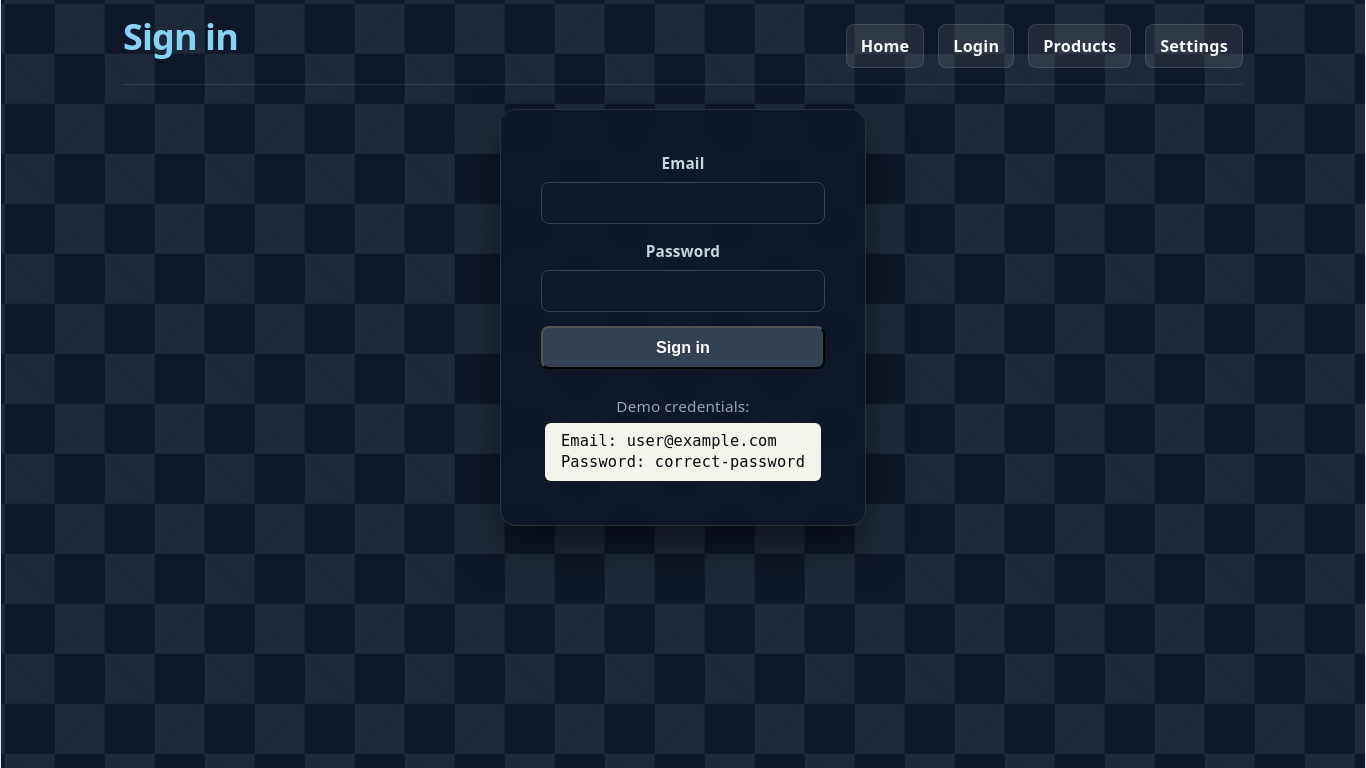
it: Visual regression: login form states › captures login form with error state
The width and height of the screenshot is (1366, 768).
Expected: the password field with test id "password" is shown, [541,270,825,312]
In the field with test id "email": (683, 203) [541,182,825,224], type "user@example.com"
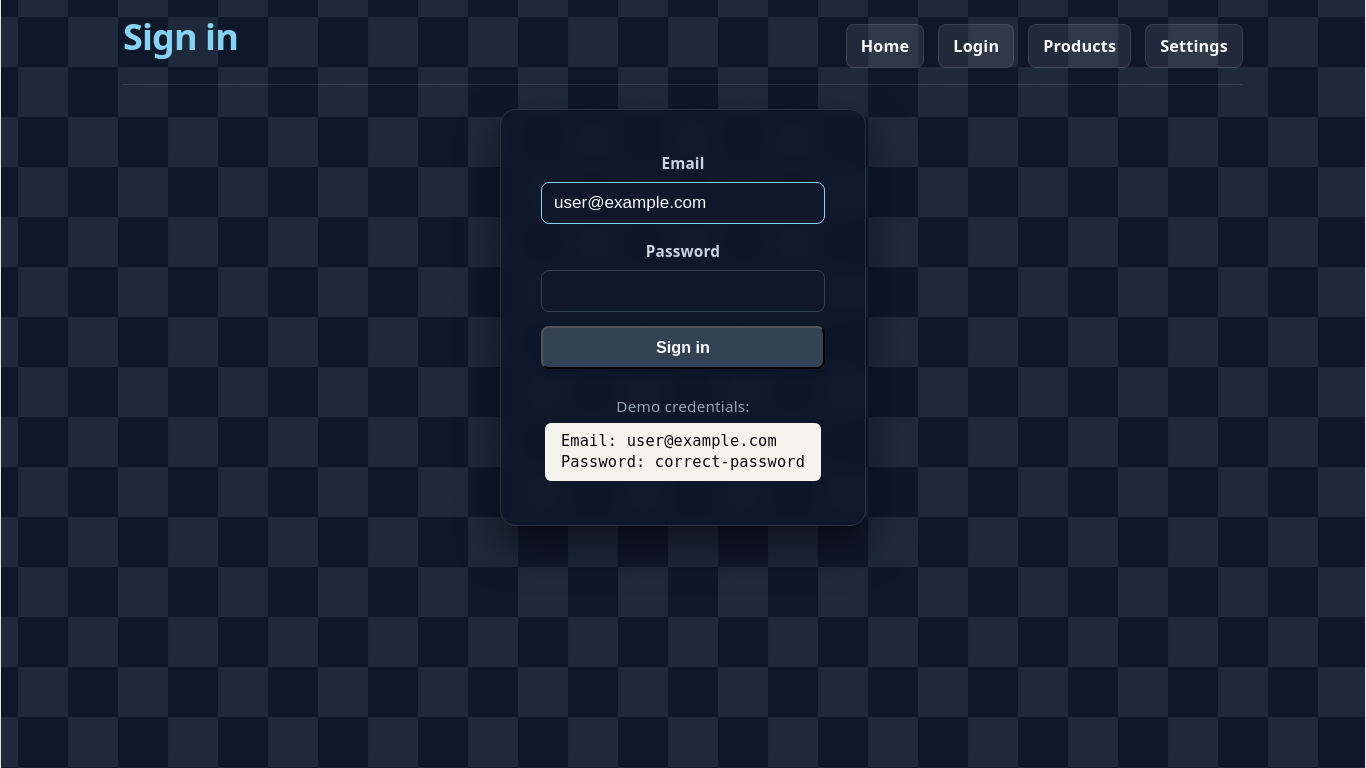
In the password field with test id "password": (683, 291) [541,270,825,312], type "wrong-password"
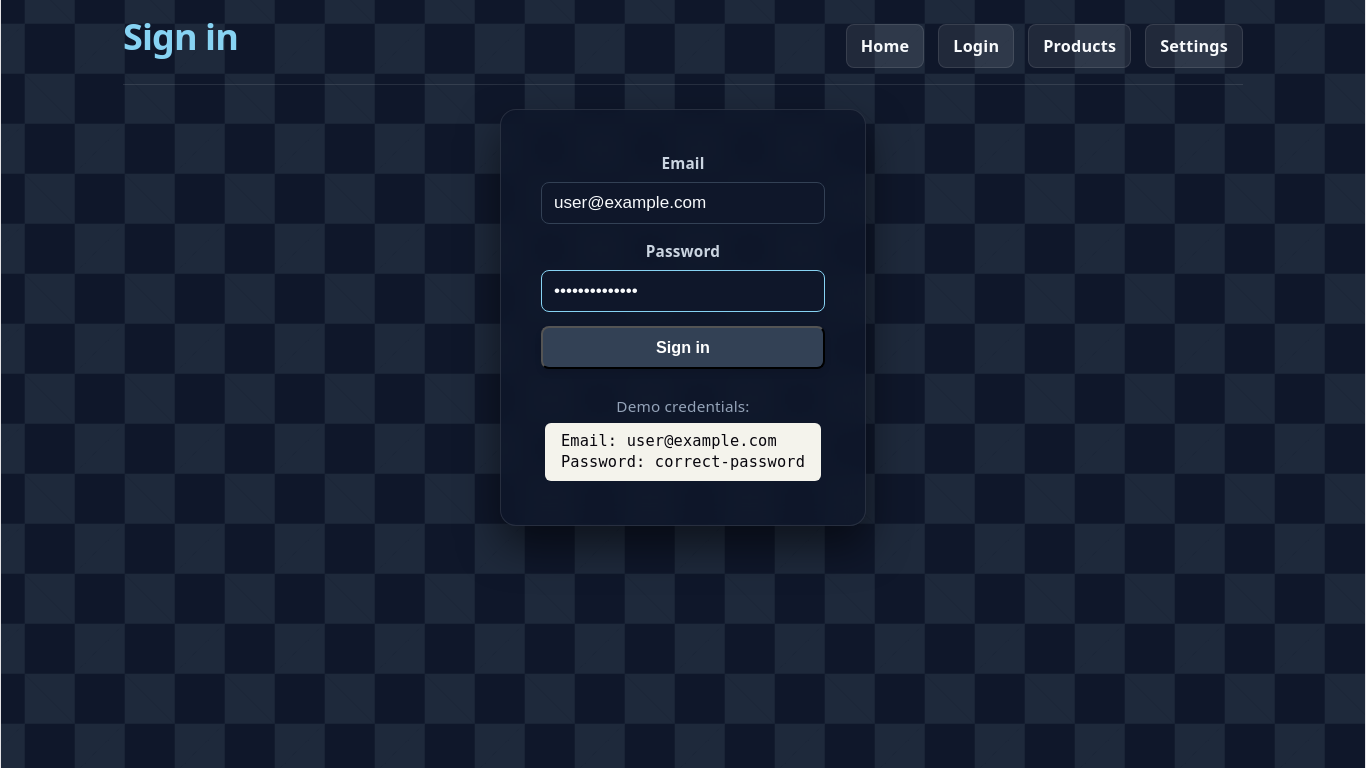
Click the button with test id "login-submit": (683, 348) [541,326,825,369]
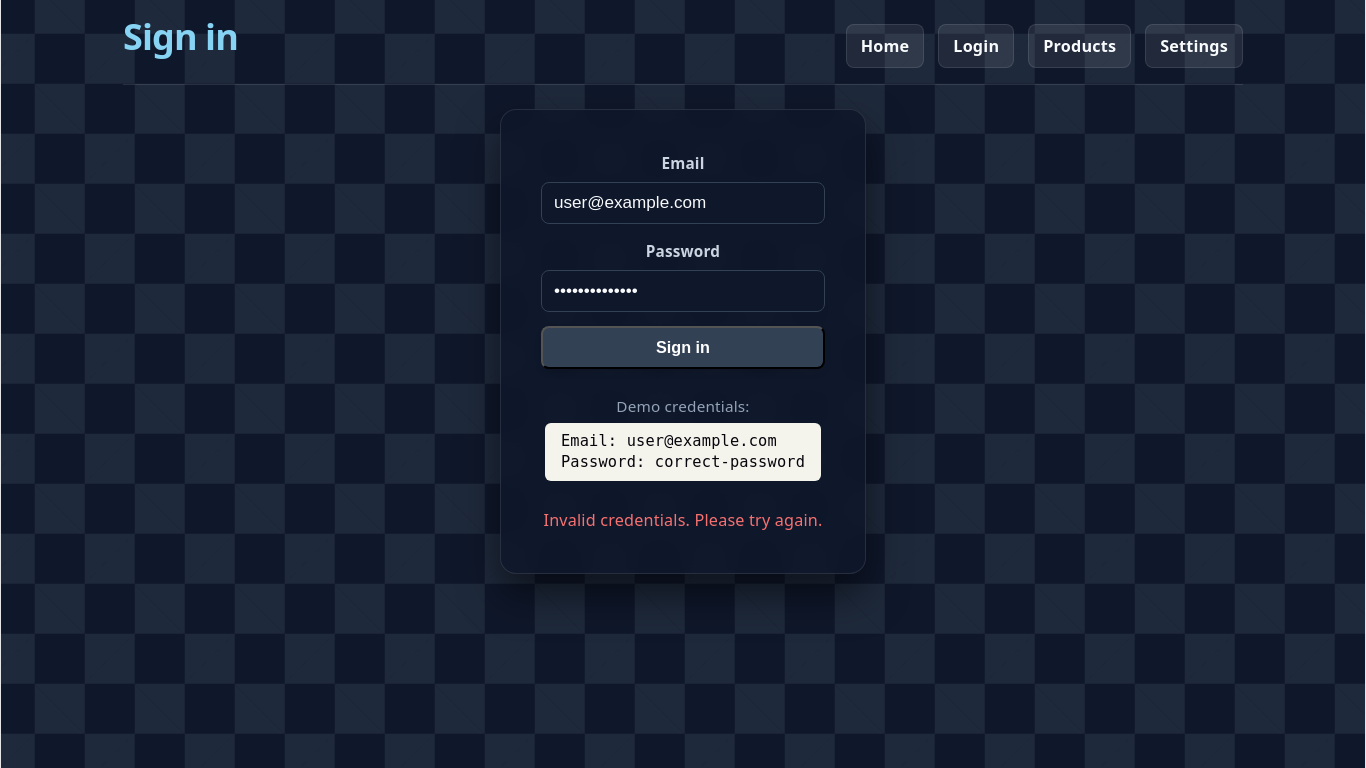
Expected: the message "Invalid credentials. Please try again." is shown, [541,507,825,533]
